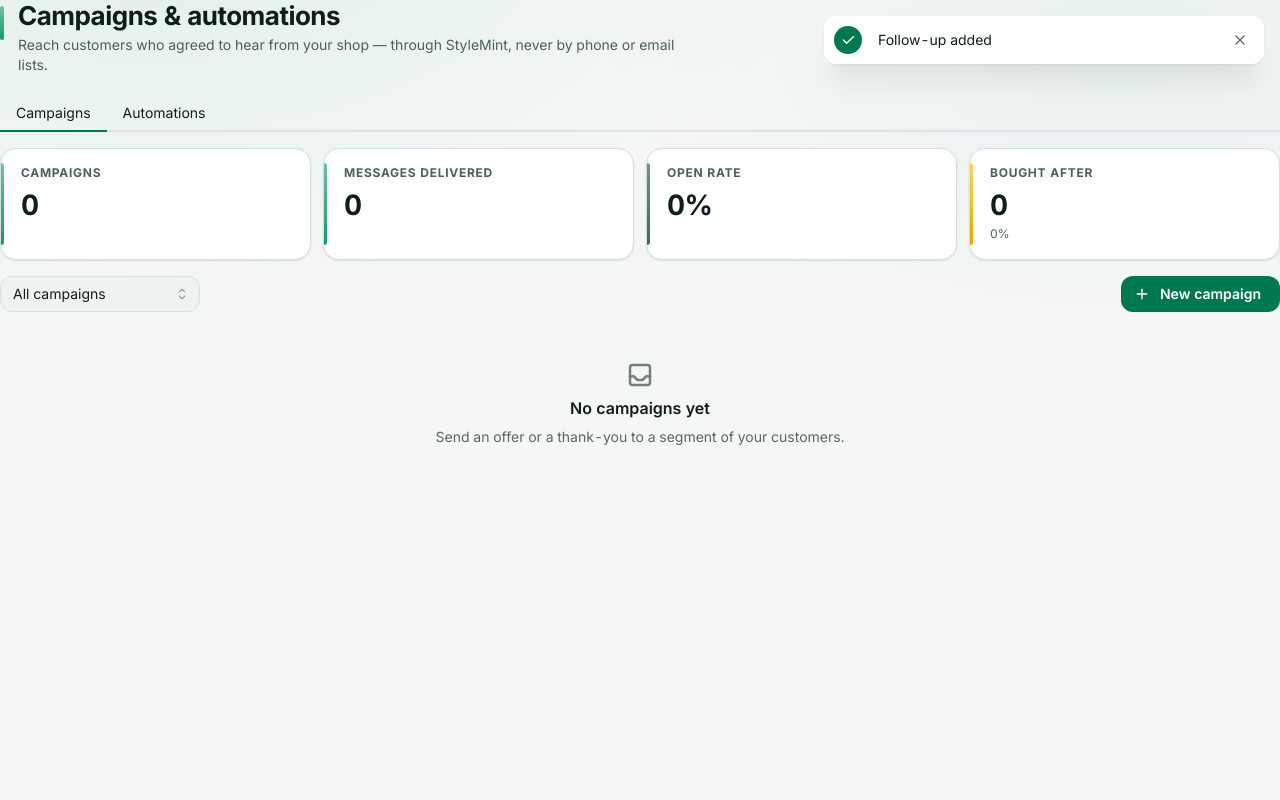
Test: campaigns respect consent › counts consent from the contacts when the total is not reported
Click the button "New campaign".
click(1200, 294)  # box x1=1121 y1=276 x2=1279 y2=312
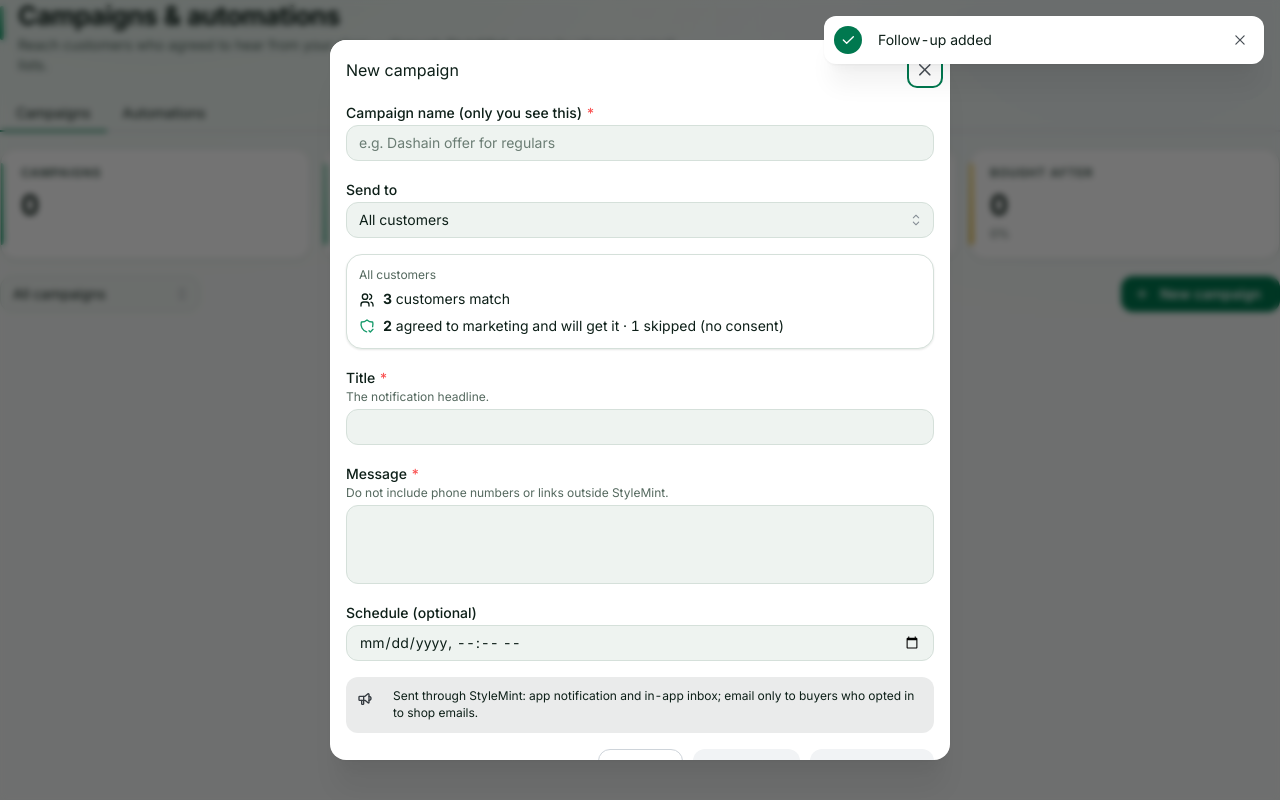
Check: the element with test id "consent-count" shows "2 agreed to marketing and will get it · 1 skipped", box x1=359 y1=317 x2=784 y2=334
